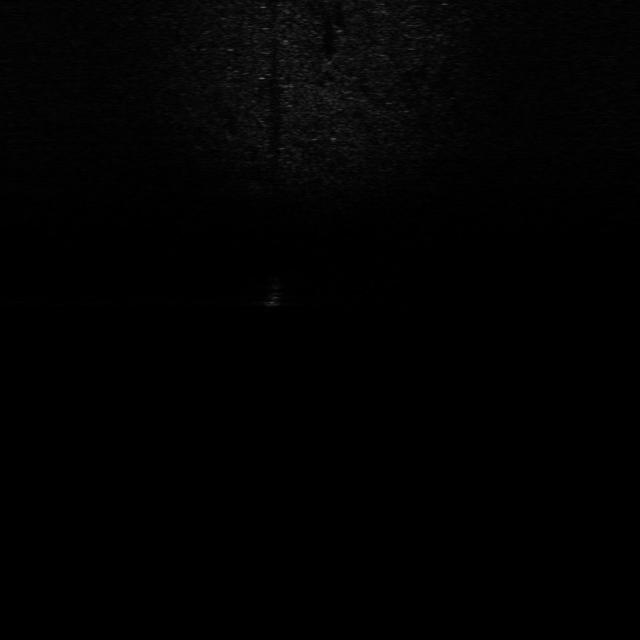human body: (253, 268, 288, 316)
